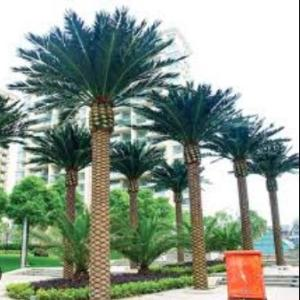palm tree: (6, 5, 190, 299), (125, 80, 255, 289), (199, 116, 288, 250), (23, 122, 93, 279), (247, 139, 299, 265), (149, 157, 209, 263)
